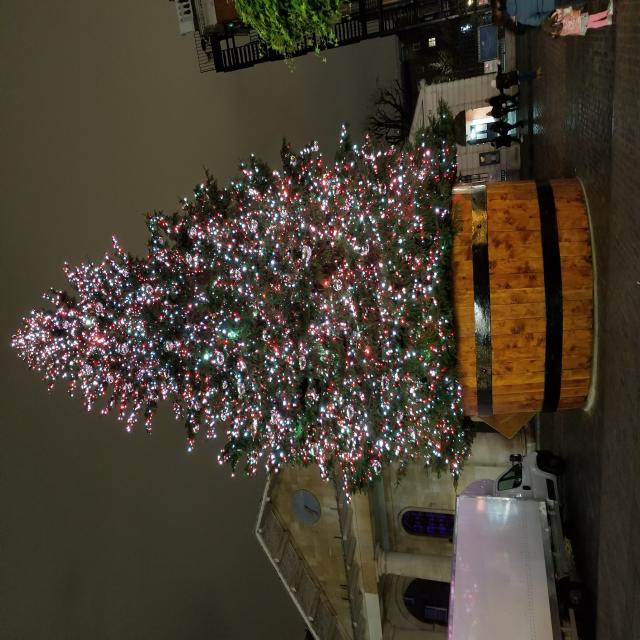Christmas-tree: (112, 25, 390, 601)
